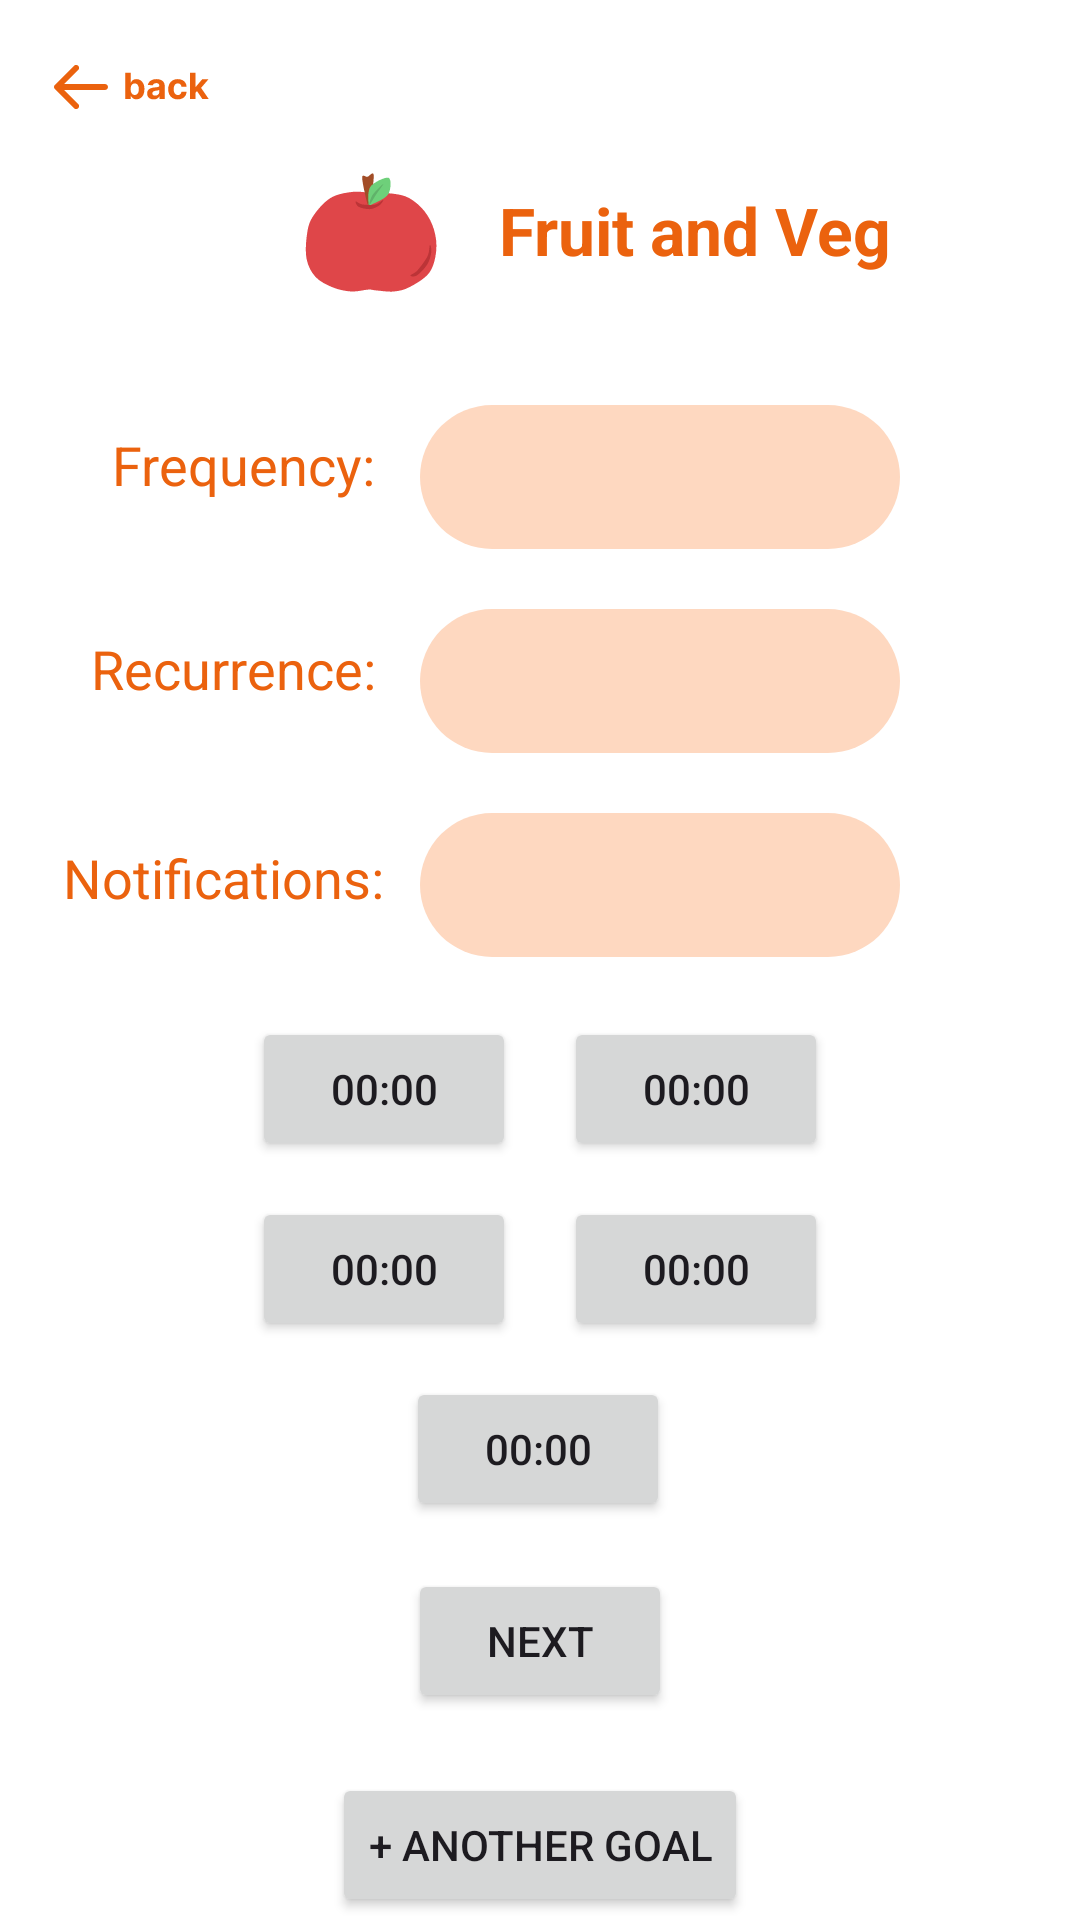

Where to tap for icons on this 1080 × 1920 app screen, as point (x, y):
apple wrapper: point (371, 232)
